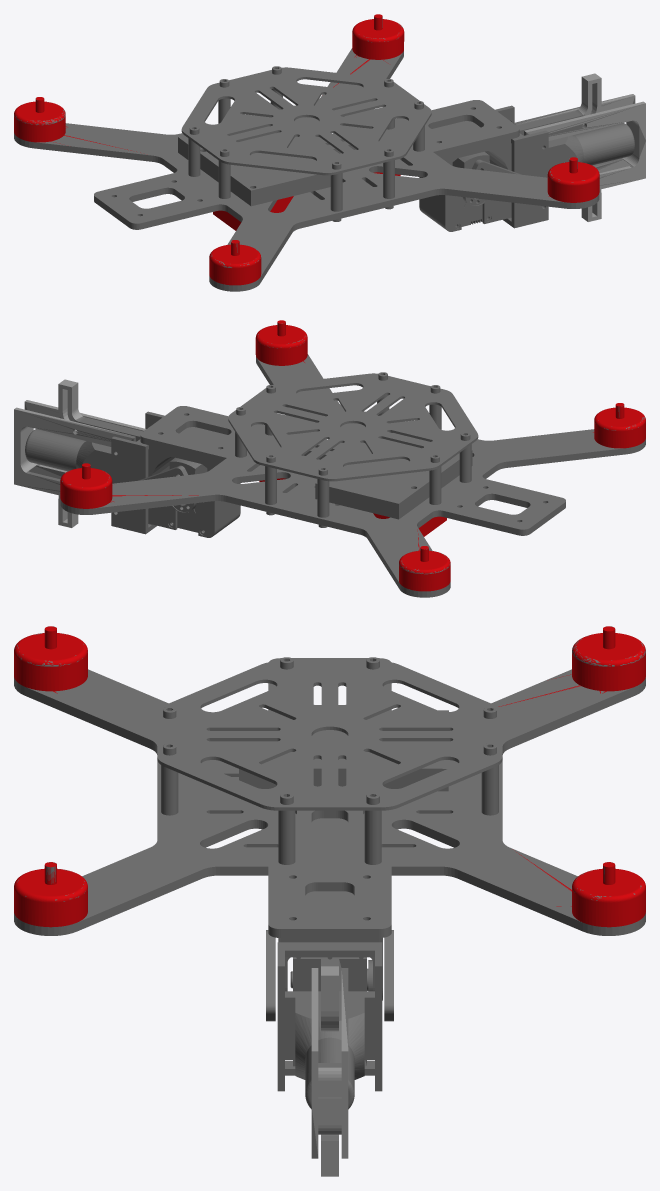
Rendered from assemble_dual_quadrotors_male_body.dae.
3 renders of one model, top to bottom at view 1: azimuth 30°, elevation 25°; view 2: azimuth 150°, elevation 25°; view 3: azimuth 270°, elevation 25°, orthographic. The views are drawn at different scales.
Visible parts, largest first — view 1: Assemble_dual_quadrotors_v2_male; view 2: Assemble_dual_quadrotors_v2_male; view 3: Assemble_dual_quadrotors_v2_male.
Part boxes in pixels (x1,y1,x2,y2): Assemble_dual_quadrotors_v2_male: (14,14,645,291); Assemble_dual_quadrotors_v2_male: (14,320,645,597); Assemble_dual_quadrotors_v2_male: (14,626,645,1176).
Bounding box in the file's own units: 0.3525 × 0.2563 × 0.11.
